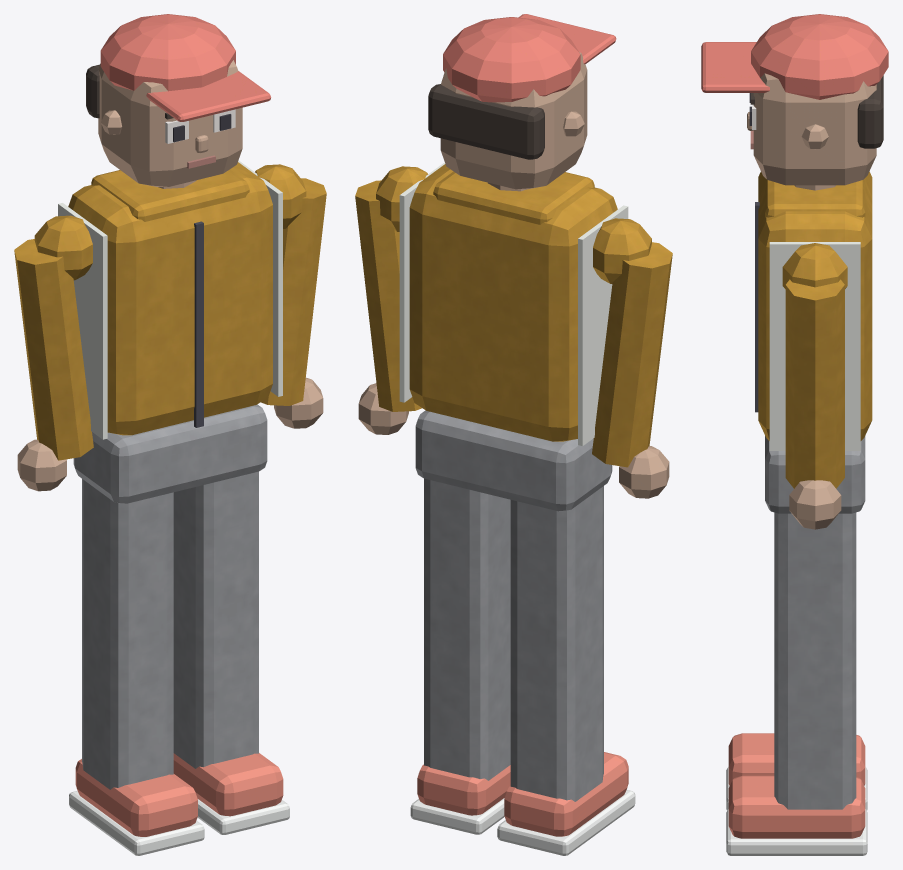
3 renders of one model, left to right at view 1: azimuth 30°, elevation 25°; view 2: azimuth 150°, elevation 25°; view 3: azimuth 270°, elevation 25°, orthographic.
Visible parts, largest first — view 1: Skin_street_runner; view 2: Skin_street_runner; view 3: Skin_street_runner.
Part boxes in pixels (<box>): Skin_street_runner: <box>14,14,326,855</box>; Skin_street_runner: <box>355,14,672,855</box>; Skin_street_runner: <box>701,14,888,855</box>.
Size of the model in its own units: 0.79 by 1.93 by 0.4111.
Materials: 3 (3 with a texture image).
